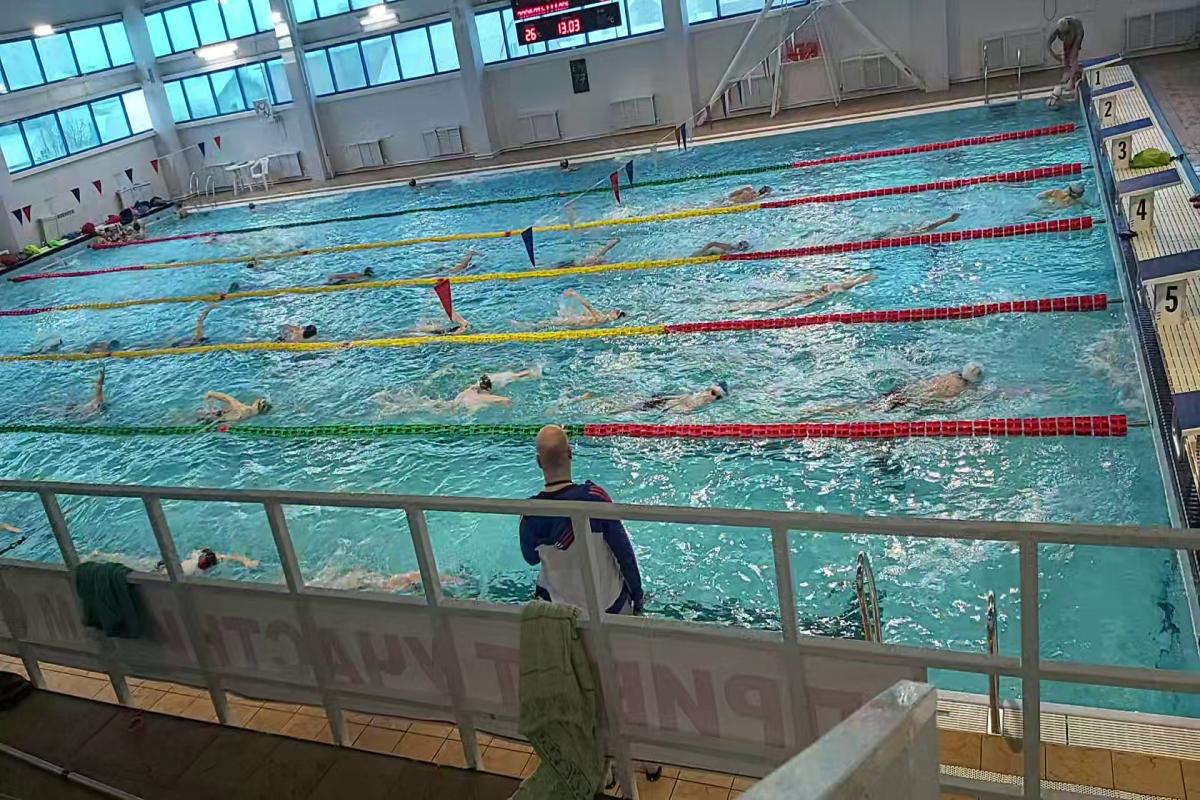swimmer: (384, 359, 544, 419), (600, 380, 766, 424), (856, 359, 1000, 408), (107, 544, 271, 578), (324, 554, 449, 594), (752, 264, 862, 308), (180, 393, 284, 426), (542, 296, 649, 328), (49, 379, 133, 419), (1030, 178, 1094, 222), (158, 311, 233, 348), (327, 257, 398, 289), (674, 226, 752, 253), (71, 318, 123, 358), (702, 178, 783, 203), (273, 313, 326, 350), (545, 239, 612, 268), (433, 246, 495, 275)
